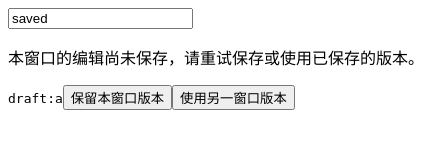
Test case: V2 scoped recovery storage › retains failed edits across component unmount and connection changes
Earlier steps of the test are not shown.
Later steps or results of the test are not shown.
Click the button "保留本窗口版本".
click(117, 98)  # box 63,85 -> 172,110
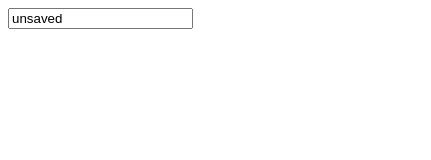
Result: the field named "draft" holds "unsaved" at 8,8 -> 193,29
